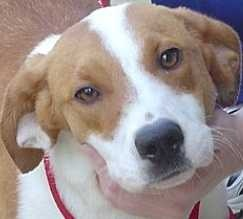Dog: (14, 4, 227, 191)
